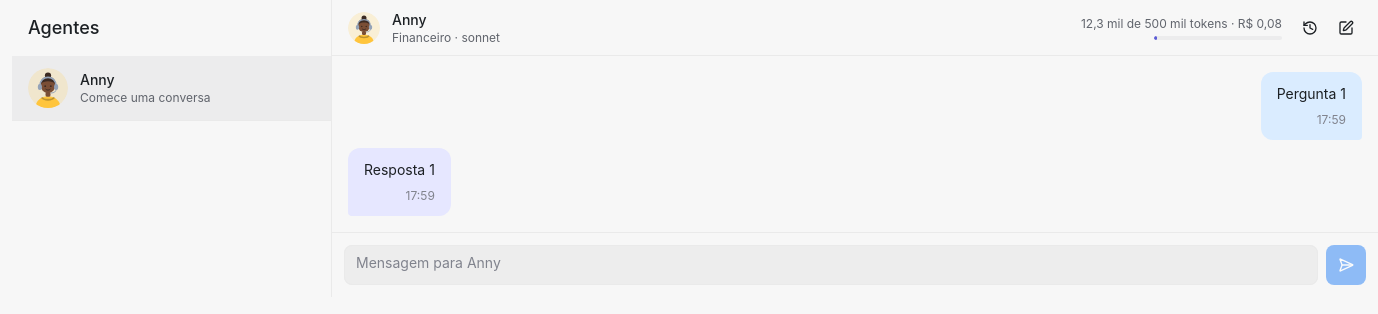
Test: chats with AI agents › starts a new conversation and reads an earlier one without answering it
Expected: the text "Resposta 1" is shown, [364, 160, 435, 180]
Click the button named "Nova conversa" at [1346, 28], box [1330, 12, 1362, 44]
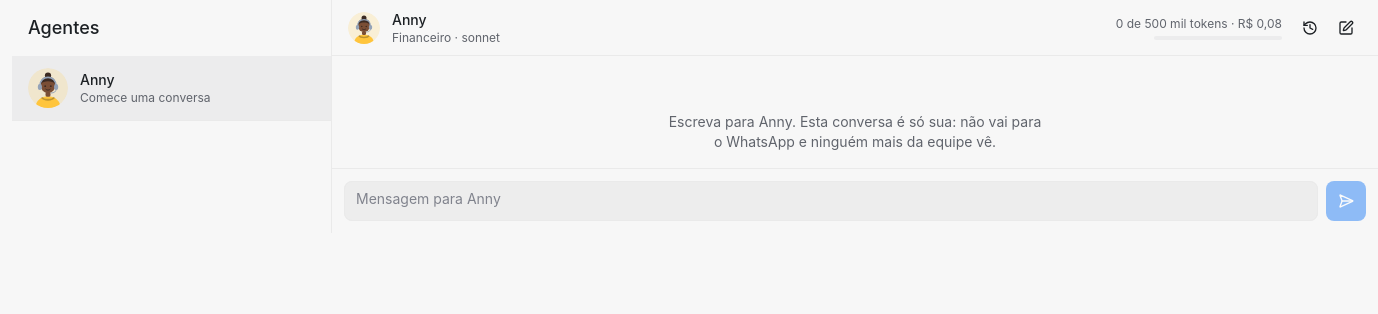
Expected: the text box labelled "Mensagem para Anny" is shown, [344, 181, 1318, 221]
Now the text "Resposta 1" is gone
Click the button named "Conversas anteriores" at [1310, 28], box [1294, 12, 1326, 44]
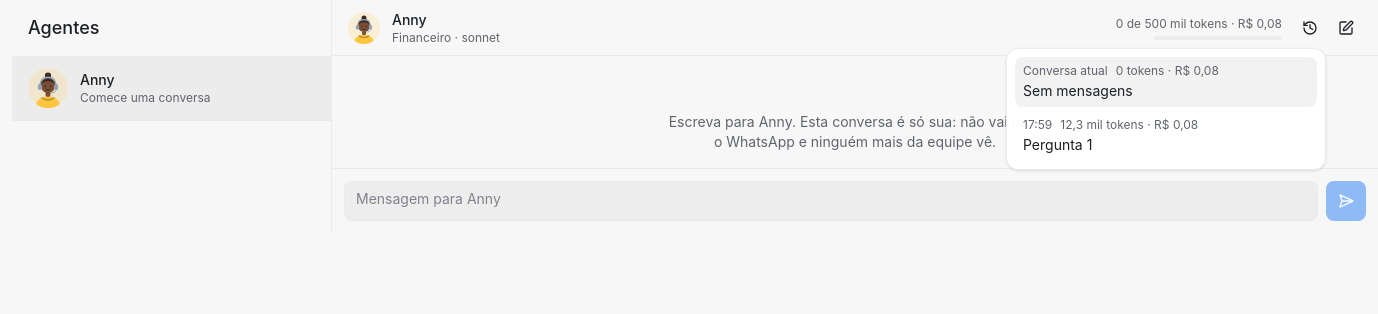
Click the menu item "17:59 12,3 mil tokens · R$ 0,08 Pergunta 1" at [1082, 124], box [1015, 110, 1317, 160]
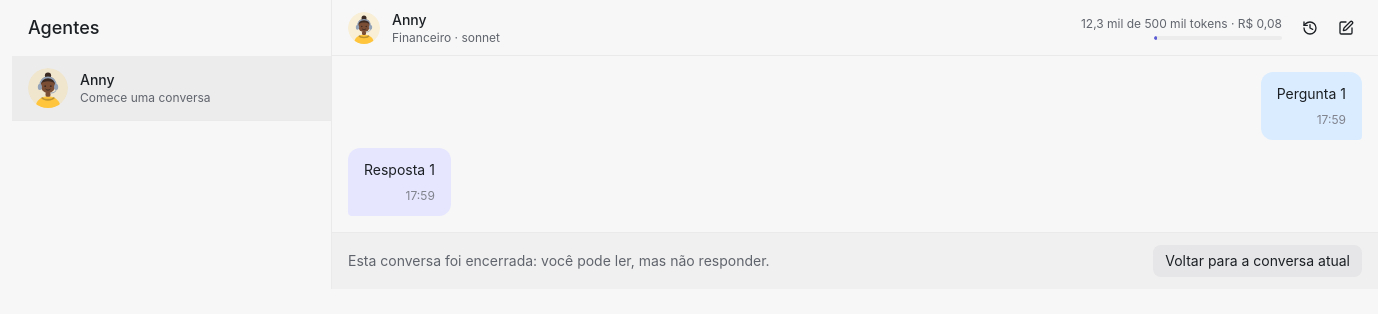
Expected: the field labelled "Mensagem para Anny" is not shown
Now the text "Resposta 1" is shown, box [364, 160, 435, 180]
Now the text "foi encerrada" is shown, box [348, 252, 770, 269]
Click the button "Voltar para a conversa atual" at [1258, 261], box [1153, 245, 1362, 277]
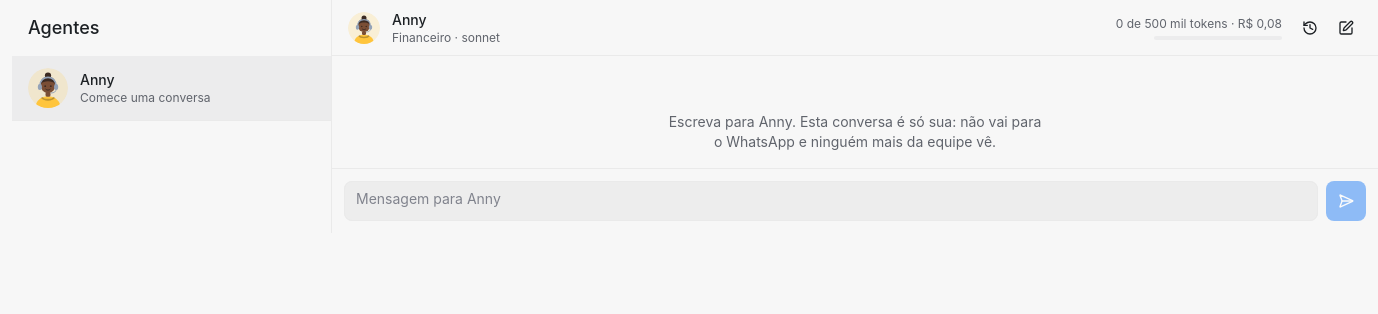
Now the text "Resposta 1" is gone
